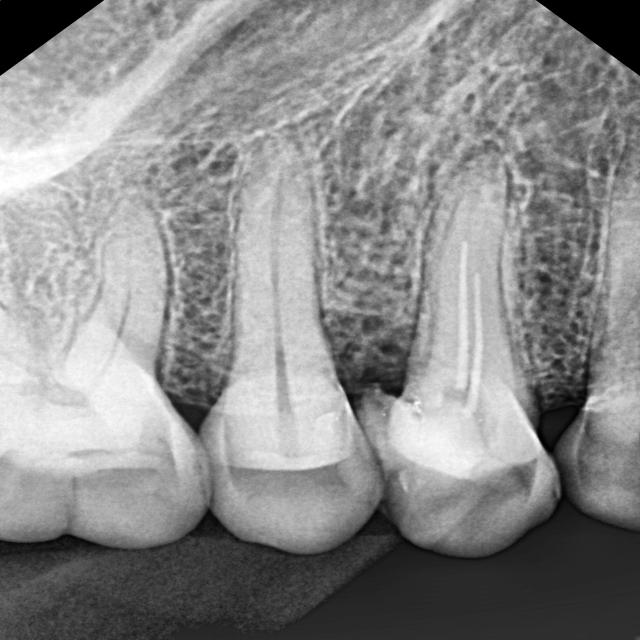Normal: (208, 122, 397, 572)
RCT: (373, 129, 572, 571)
